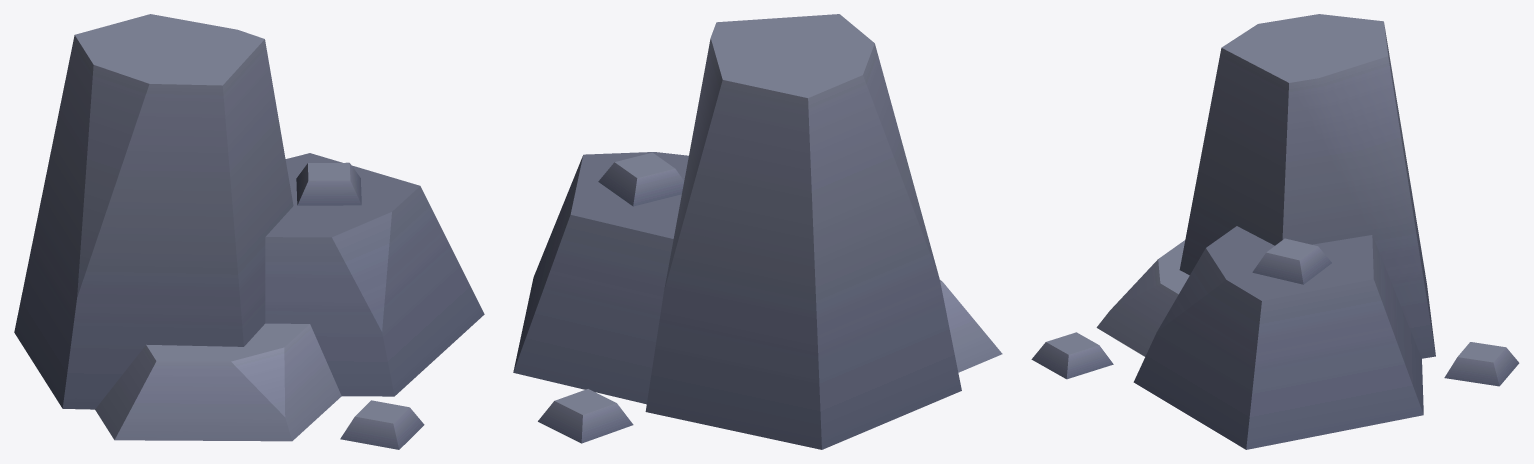
File: rock-a.glb
The picture shows the model from 3 angles, left to right: view 1: azimuth 30°, elevation 25°; view 2: azimuth 150°, elevation 25°; view 3: azimuth 270°, elevation 25°; orthographic projection. The views are drawn at different scales.
Visible parts, largest first — view 1: rock-a; view 2: rock-a; view 3: rock-a.
Boxes of the visible parts, box(x1,y1,x2,y2) form: rock-a: box(14, 14, 484, 449); rock-a: box(513, 14, 1002, 449); rock-a: box(1031, 14, 1519, 449).
Size of the model in its own units: 0.5552 by 0.3927 by 0.6216.
1 material, 1 textured.
